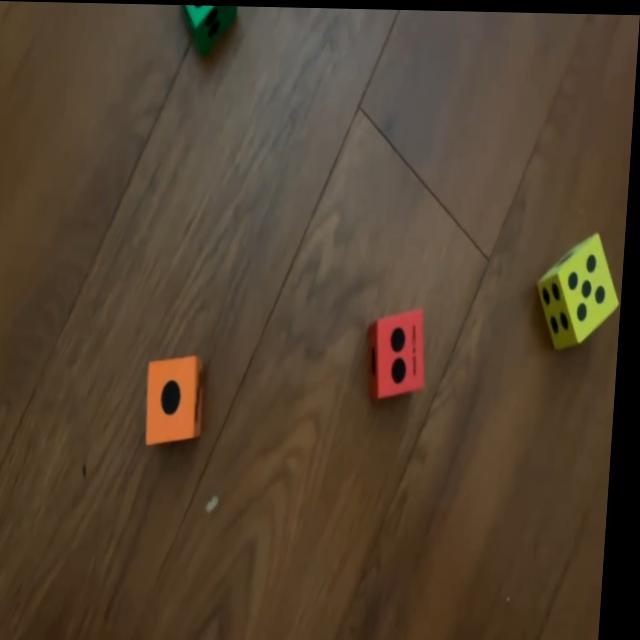red_block: (369, 306, 433, 397)
